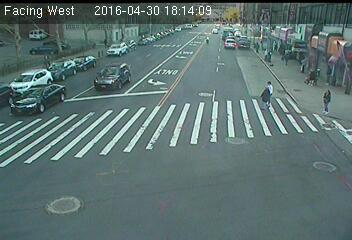neg: (143, 147, 182, 200), (218, 131, 249, 172), (293, 149, 321, 186), (31, 63, 58, 99), (45, 189, 71, 224), (194, 86, 218, 118), (95, 110, 118, 141), (116, 39, 139, 69), (84, 38, 102, 63), (228, 24, 246, 48), (201, 28, 218, 51)
pos: (318, 86, 341, 117), (260, 79, 278, 102), (298, 54, 312, 73), (306, 70, 318, 86), (326, 65, 338, 81)
